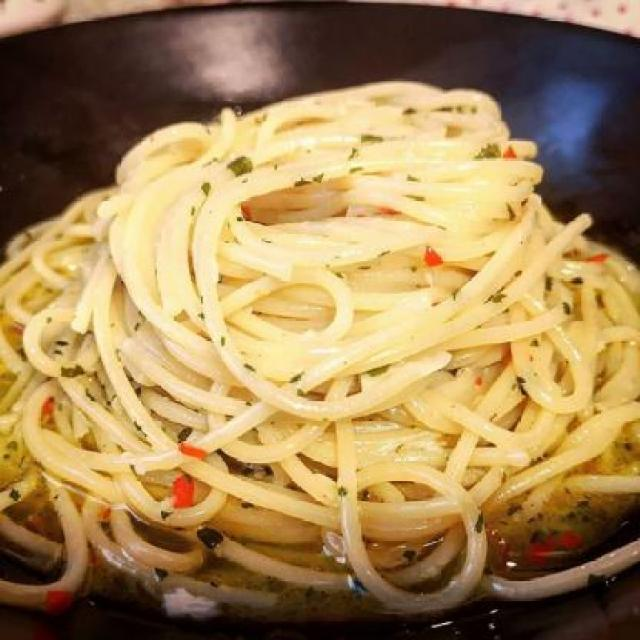Oil pasta: (22, 94, 640, 617)
